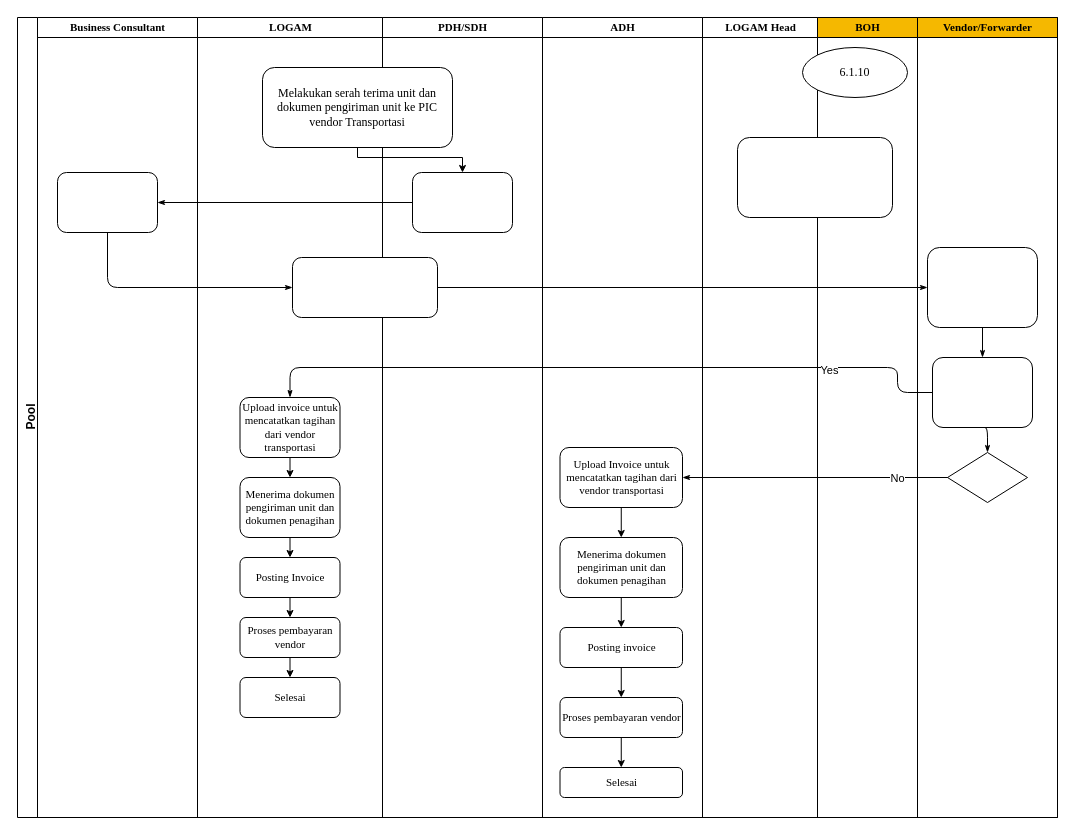
This 1075x835 diagram has some shape labels left out. The centre of each missing label's shape, as x and y in pixels:
Dari HO?: the point at 987,477
Menandatangani dokumen pengiriman unit: the point at 814,177
Mengirimkan Dokumen pengiriman unit dan dokumen penagihan ke LOGAM/ADH: the point at 982,392
Monitor pengiriman unit: the point at 107,202
Setelah dok pengiriman ditandatangani, update actual time departure (ATD) di SAP: the point at 982,287
Setelah pengiriman ditandatangani update actual time departure (ATD) di SAP: the point at 365,287
Update actual time departure (ATD) di SAP: the point at 462,202
